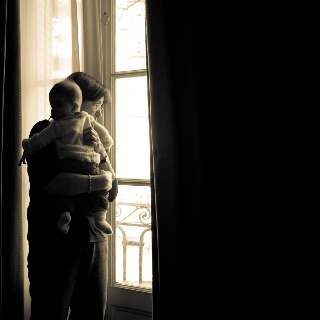without_mask: (50, 93, 71, 119), (81, 97, 104, 120)
